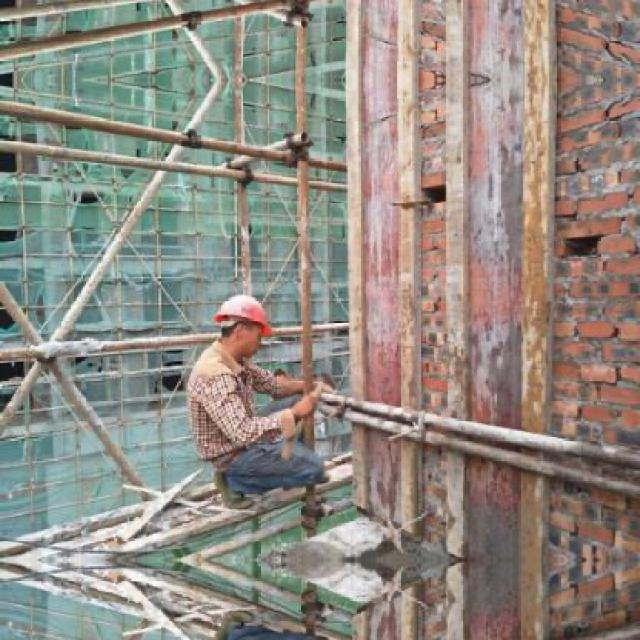helmet: (208, 290, 277, 362)
